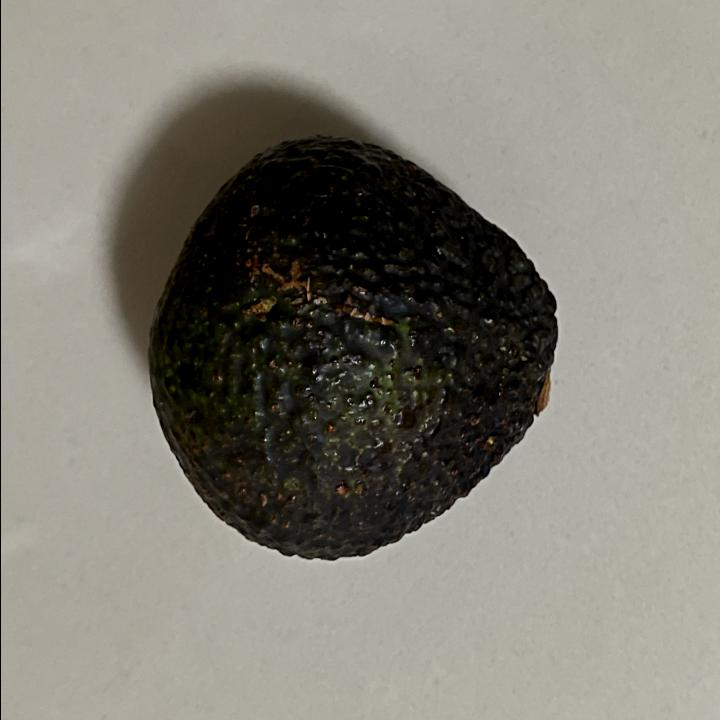Level1: (136, 124, 570, 576)
